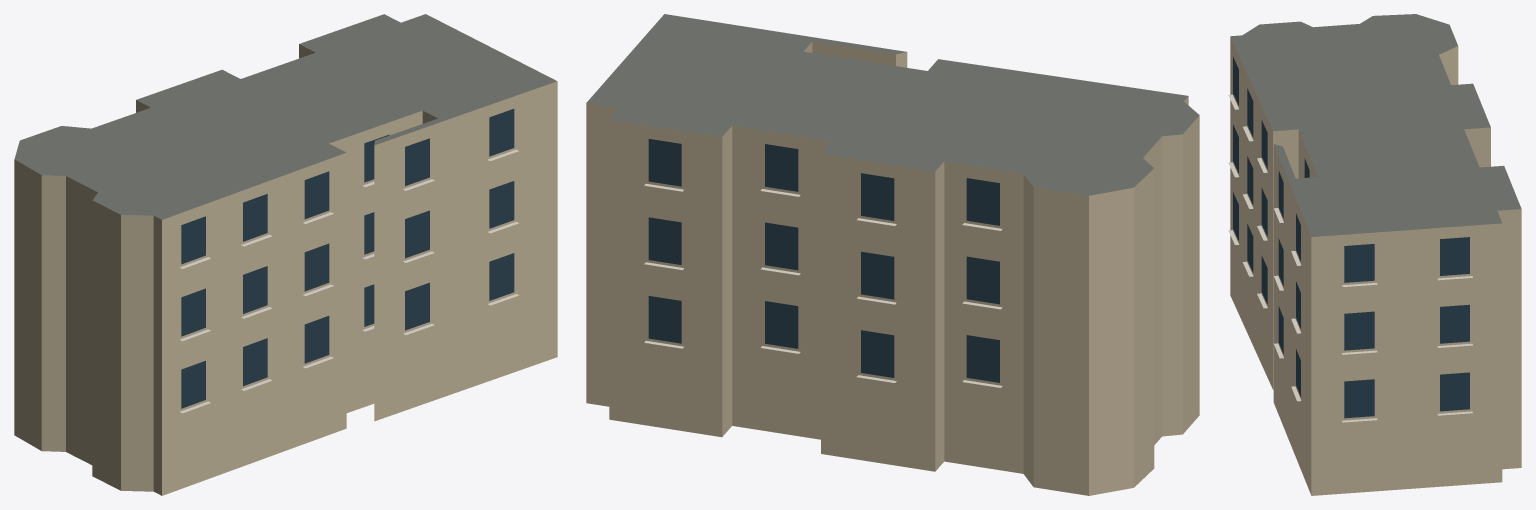
The picture shows the model from 3 angles, left to right: view 1: azimuth 30°, elevation 25°; view 2: azimuth 150°, elevation 25°; view 3: azimuth 270°, elevation 25°; orthographic projection. The views are drawn at different scales.
Parts seen in each view (by area): view 1: Footprint 0, Inferred window bays, Window sills; view 2: Footprint 0, Inferred window bays, Window sills; view 3: Footprint 0, Inferred window bays, Window sills.
Boxes of the visible parts, x1,y1,x2,y2 form: Footprint 0: [14, 14, 557, 495]; Inferred window bays: [181, 109, 514, 408]; Window sills: [180, 149, 518, 413]; Footprint 0: [586, 14, 1199, 495]; Inferred window bays: [648, 139, 999, 382]; Window sills: [644, 183, 1002, 387]; Footprint 0: [1230, 14, 1521, 495]; Inferred window bays: [1233, 57, 1469, 418]; Window sills: [1228, 94, 1472, 422].
Bounding box in the file's own units: 21.43 × 11.59 × 11.9.
